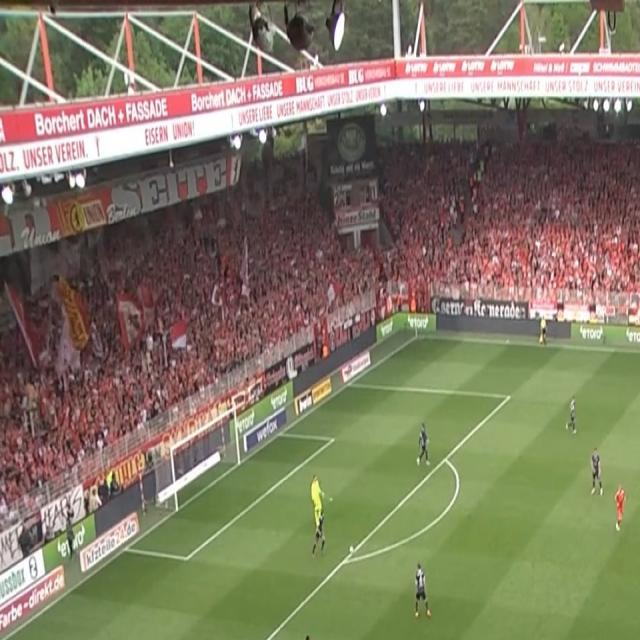ball: (349, 544, 353, 554)
